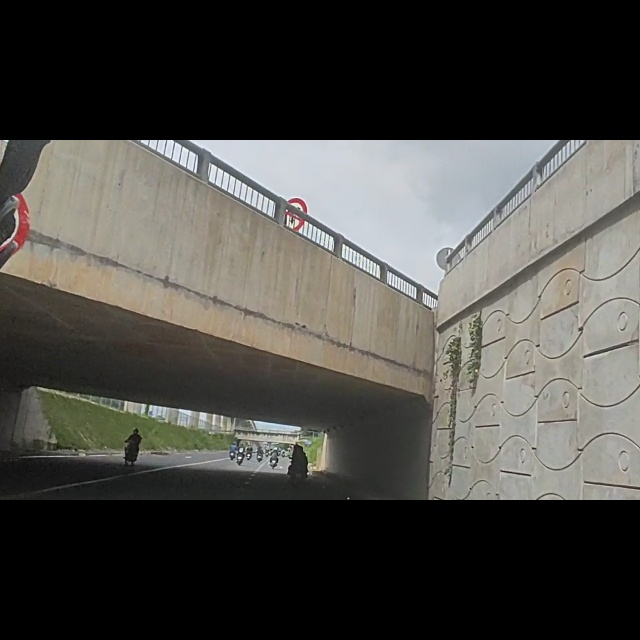bien_cam: (281, 100, 310, 162)
